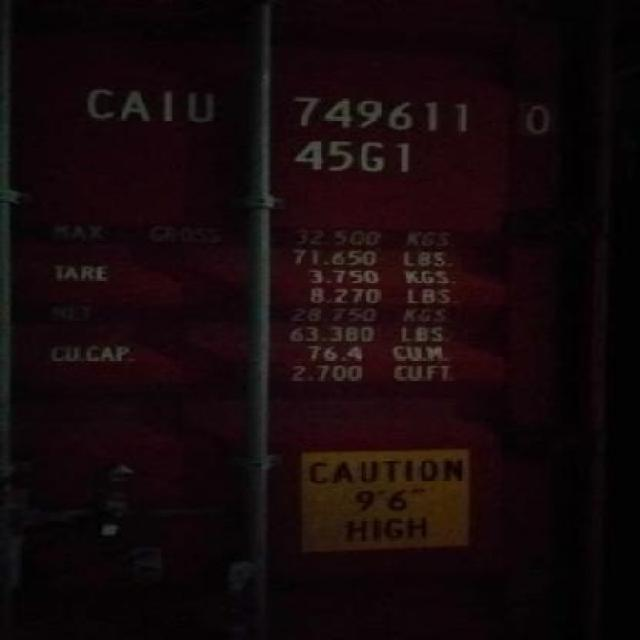ISO: (300, 142, 420, 178)
container_number: (82, 72, 554, 136)
